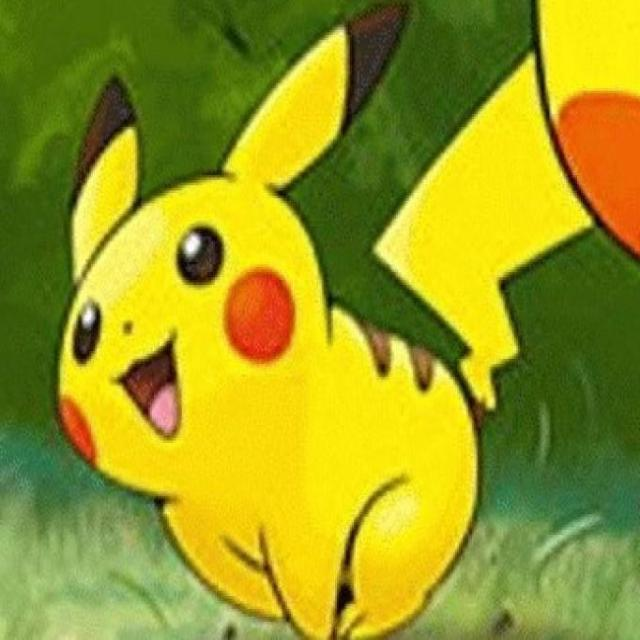pikachu: (58, 0, 609, 640)
